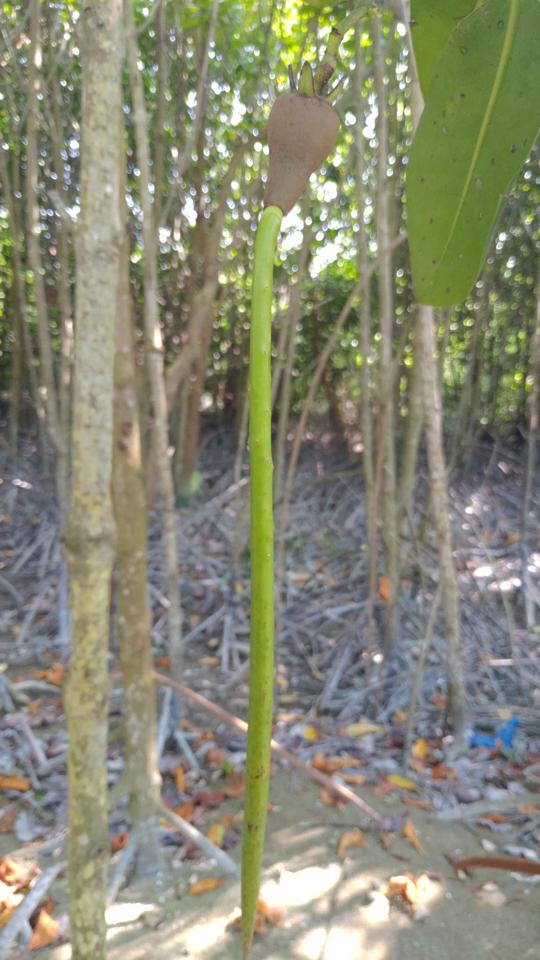setengah matang: (229, 52, 361, 953)
